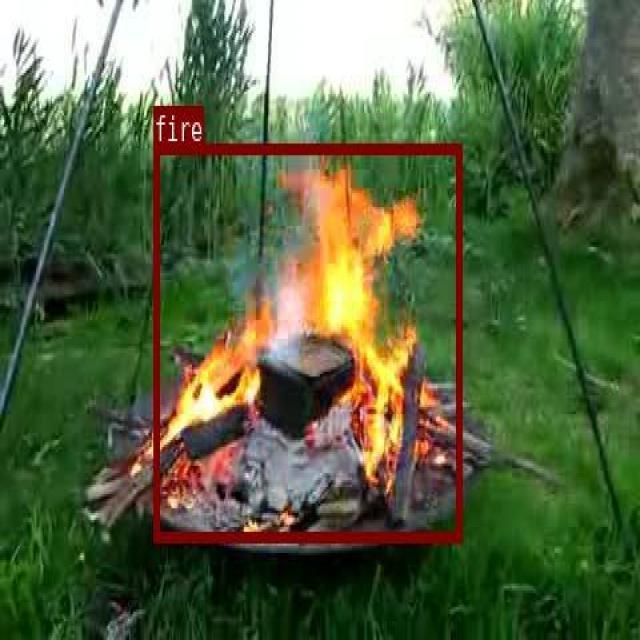fire: (153, 143, 460, 541)
